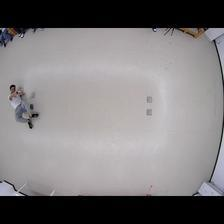fall: (4, 83, 40, 129)
